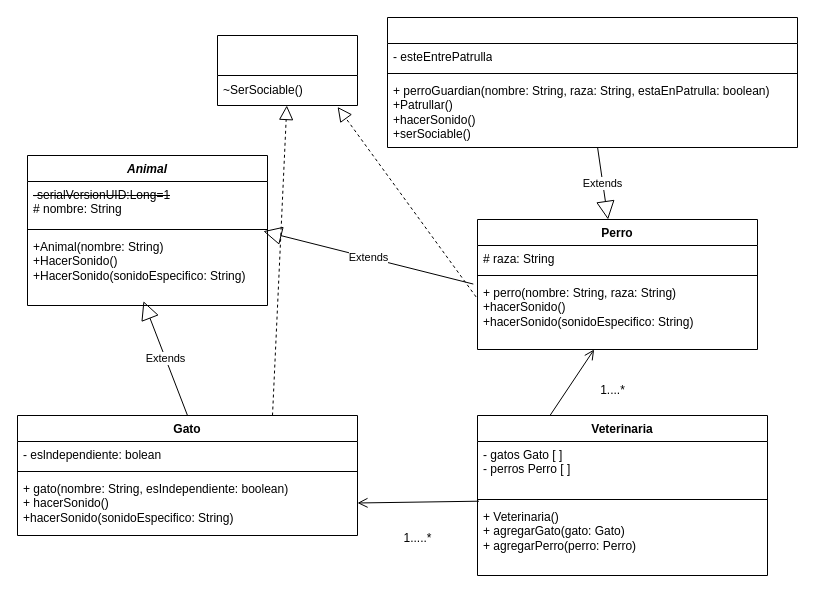
The diagram is 815 pixels wide and 596 high, and some of its shapes have lost their labels. Here are the shapes that lost their labels. From the top down, the box of each, then its label:
(216, 34, 358, 106): <<Domesticable>>
(386, 16, 798, 148): PerroGuardinan
